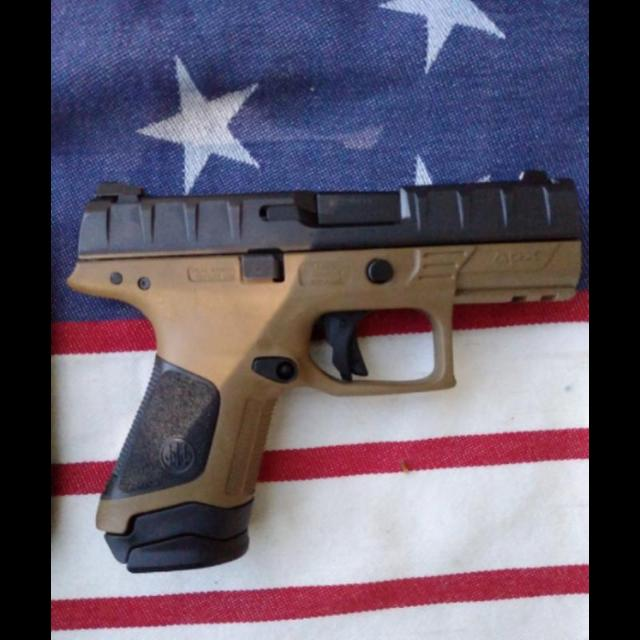handgun: (61, 166, 589, 578)
